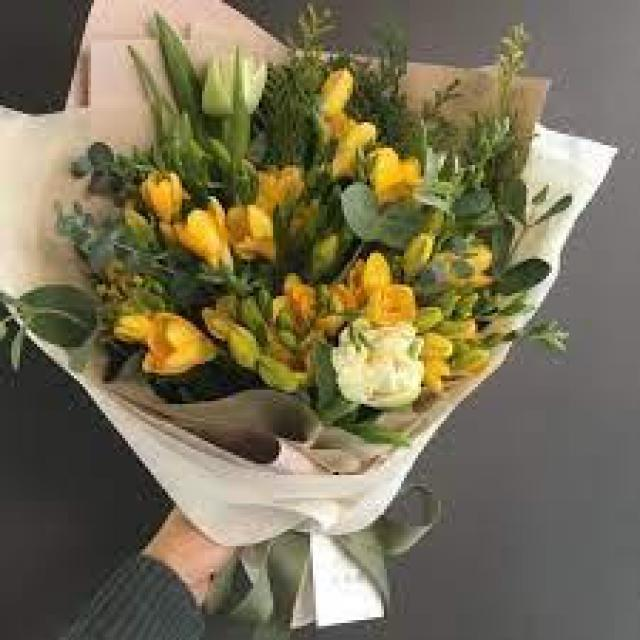freesia: (123, 304, 207, 373), (167, 198, 240, 271), (364, 274, 421, 329)
